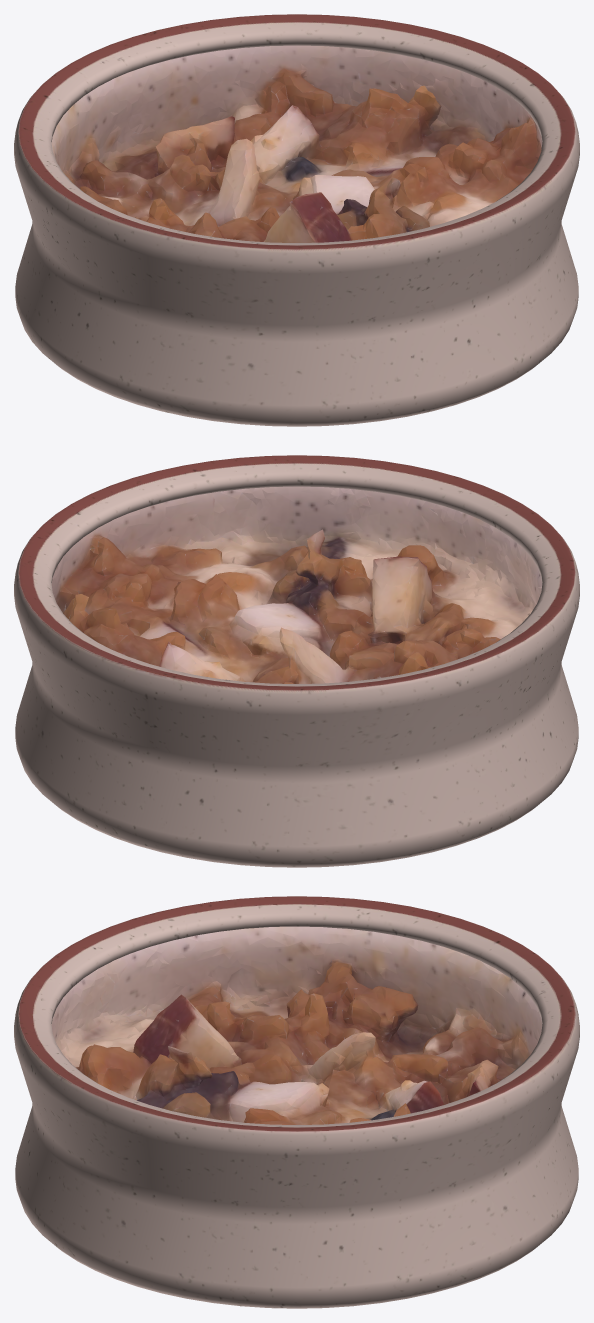
The model's file is mollar chowk doi with Biski.glb.
3 views of the same model, one above another, from view 1: azimuth 30°, elevation 25°; view 2: azimuth 150°, elevation 25°; view 3: azimuth 270°, elevation 25° (orthographic).
Parts seen in each view (by area): view 1: pasted__pCylinder1, food1; view 2: pasted__pCylinder1, food1; view 3: pasted__pCylinder1, food1.
Boxes of the visible parts, x1=… form: pasted__pCylinder1: x1=14, y1=14, x2=579, y2=426; food1: x1=51, y1=45, x2=542, y2=242; pasted__pCylinder1: x1=14, y1=455, x2=579, y2=867; food1: x1=51, y1=486, x2=542, y2=683; pasted__pCylinder1: x1=14, y1=896, x2=579, y2=1308; food1: x1=51, y1=926, x2=542, y2=1124.
Bounding box in the file's own units: 0.0916 × 0.0379 × 0.0916.
2 materials, 2 textured.
